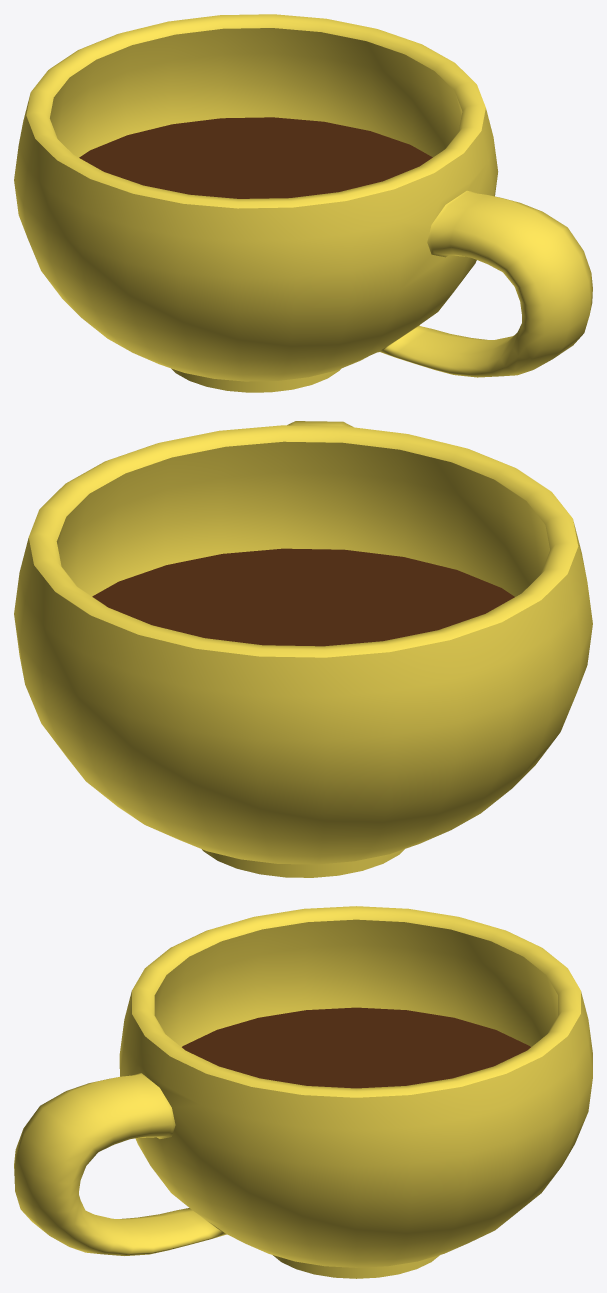
File: Cup.fbx
3 views of the same model, one above another, from view 1: azimuth 30°, elevation 25°; view 2: azimuth 150°, elevation 25°; view 3: azimuth 270°, elevation 25° (orthographic). The views are drawn at different scales.
Parts seen in each view (by area): view 1: Cup; view 2: Cup; view 3: Cup.
Part boxes in pixels (box(x1,y1,x2,y2)): Cup: box(14, 14, 592, 392); Cup: box(14, 421, 592, 877); Cup: box(14, 906, 592, 1278).
Bounding box in the file's own units: 0.1417 × 0.0792 × 0.1722.
